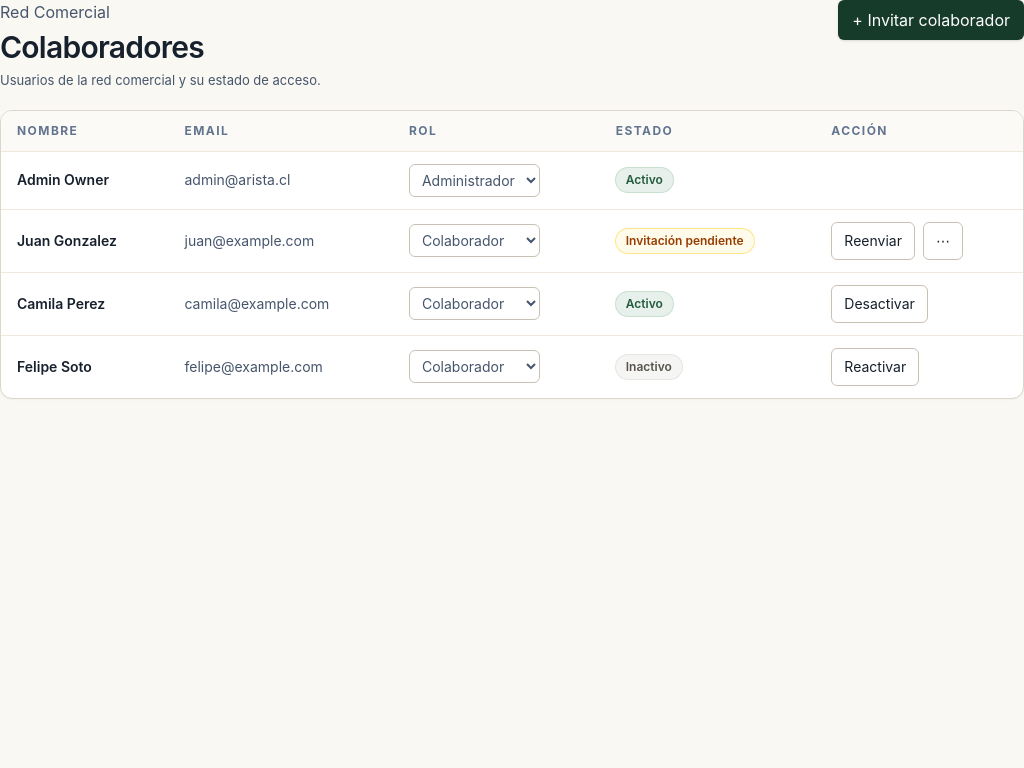
CollaboratorsPage › muestra error cuando backend bloquea eliminacion con historial
Click the heading "⋯": (943, 241) [923,222,963,260]
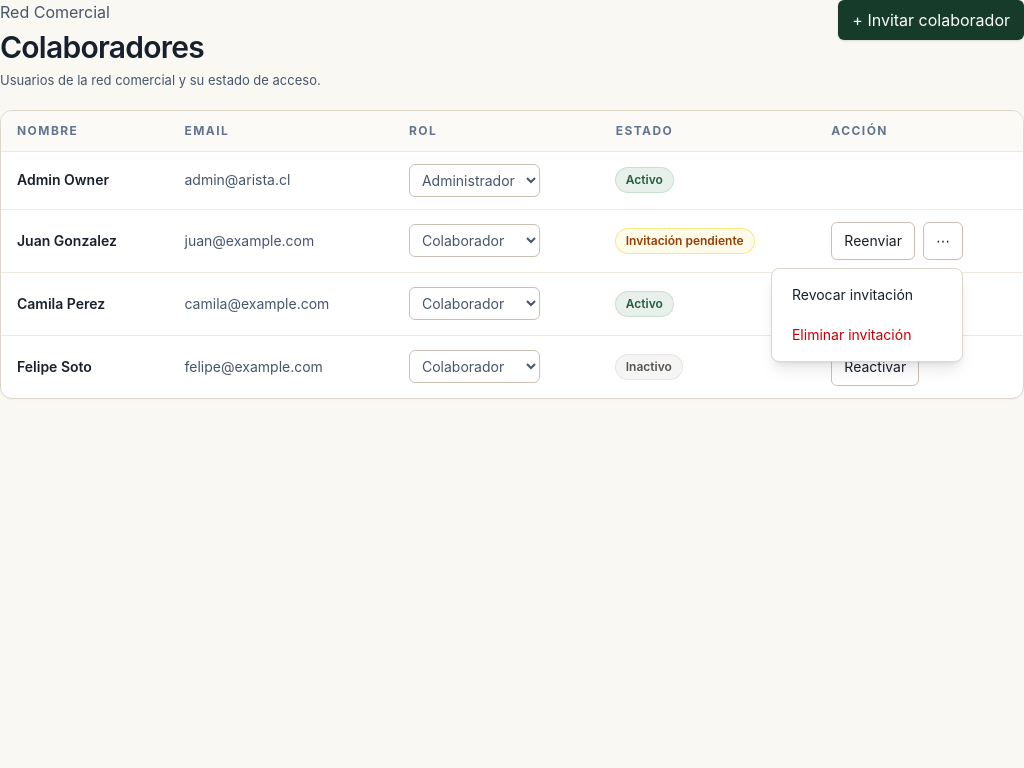
Click the button "Eliminar invitación": (867, 335) [780,317,954,353]
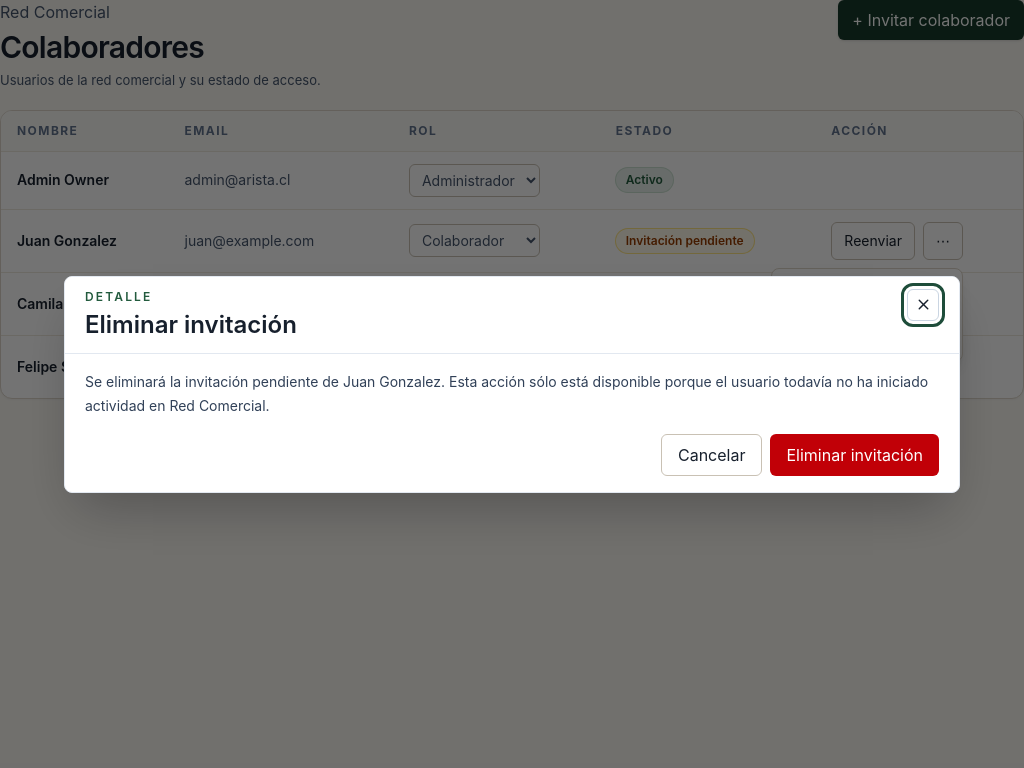
Click the button "Eliminar invitación": (855, 454) [770,434,939,476]
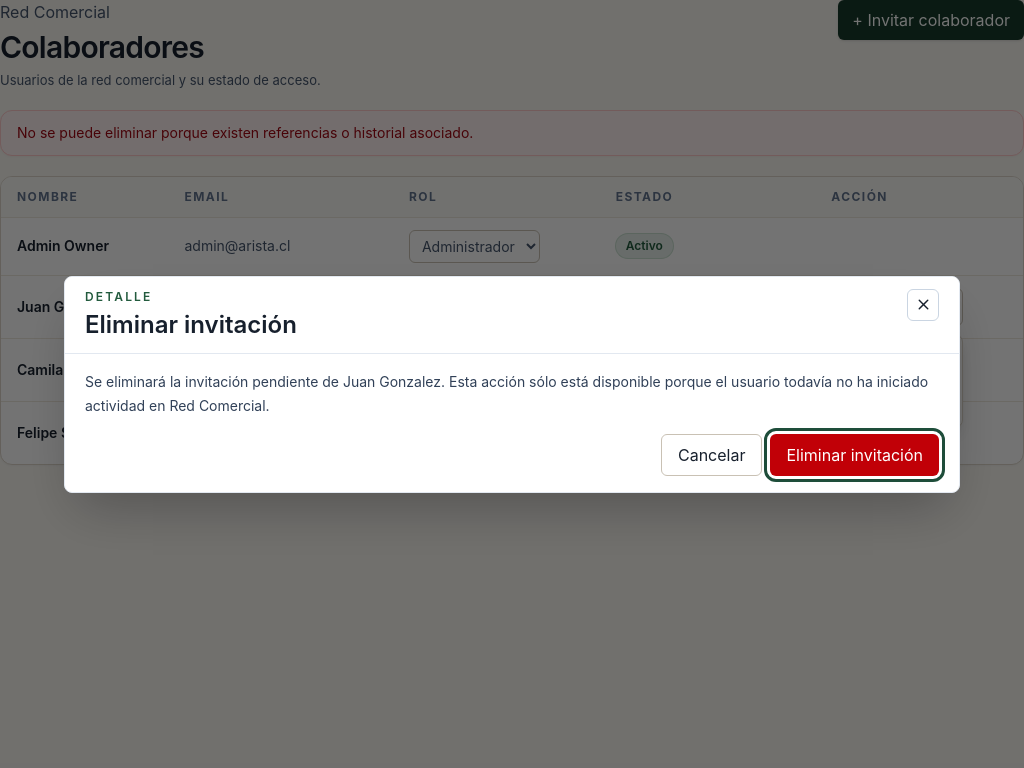
Expected: the text "No se puede eliminar porque existen referencias o historial asociado." is shown, [0,110,1023,156]
